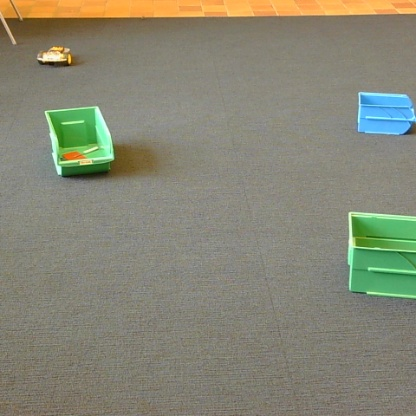robot: (37, 46, 71, 64)
